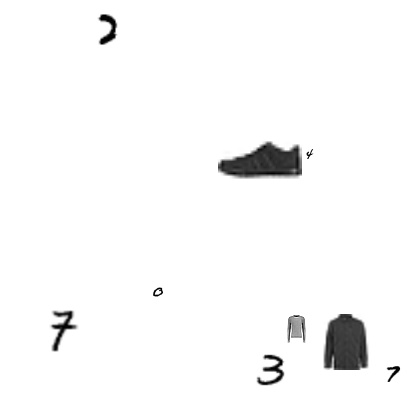0: (151, 285, 165, 299)
2: (87, 7, 129, 49)
3: (251, 349, 293, 391)
4: (302, 147, 316, 161)
7: (34, 299, 90, 355), (382, 360, 404, 382)
Coat: (318, 314, 374, 370)
Pullover: (282, 315, 310, 343)
Sneaker: (218, 118, 302, 202)
